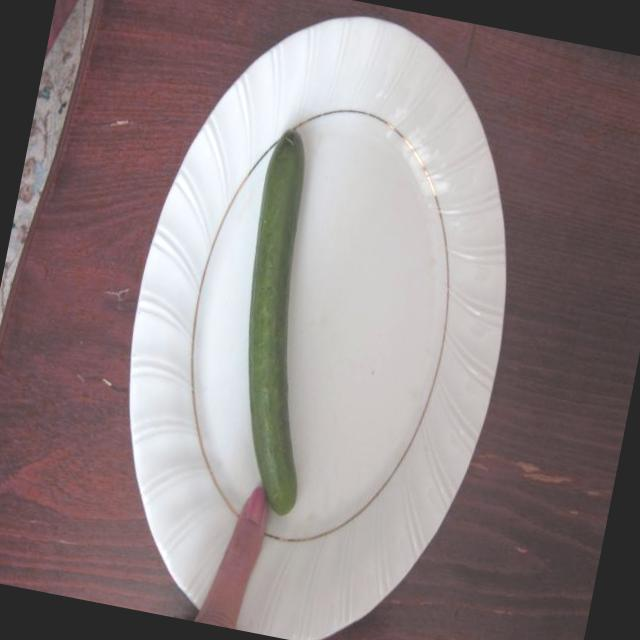Cucumber: (198, 120, 370, 522)
Finger: (200, 478, 276, 632)
